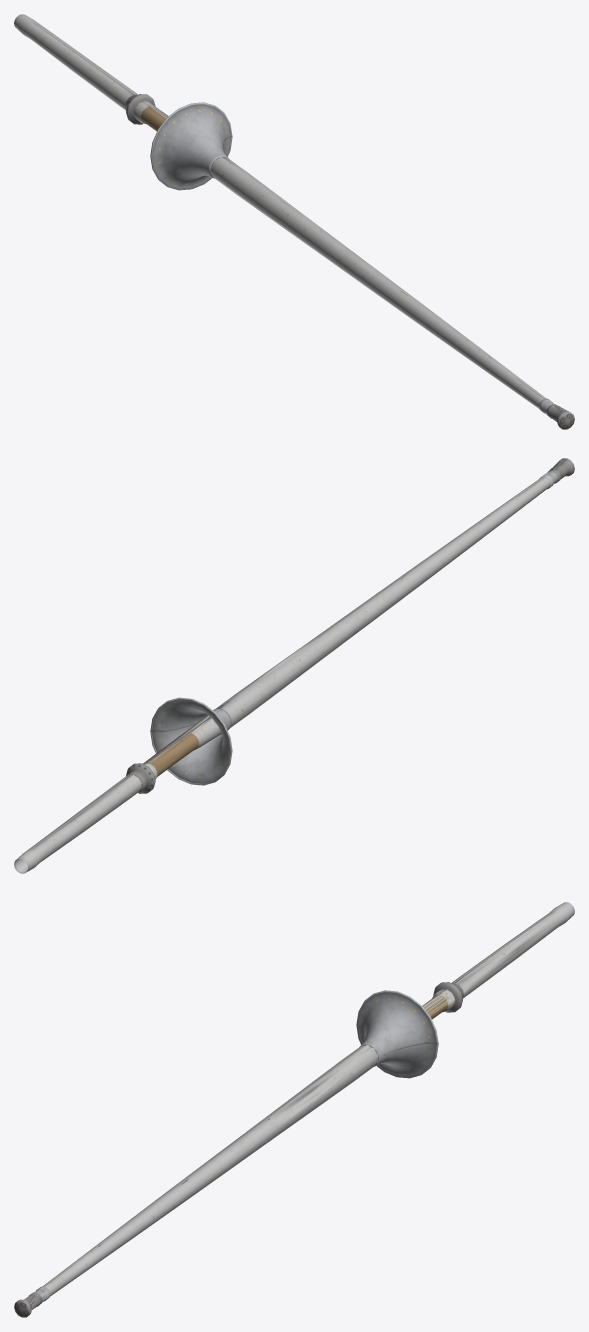
File: lance_light.glb
3 renders of one model, top to bottom at view 1: azimuth 30°, elevation 25°; view 2: azimuth 150°, elevation 25°; view 3: azimuth 330°, elevation 25°, orthographic.
Parts seen in each view (by area): view 1: lance_rear, lance_vamplate, lance_fore; view 2: lance_rear, lance_fore, lance_vamplate, lance_grapper; view 3: lance_rear, lance_vamplate, lance_fore.
Part boxes in pixels (box(x1,y1,x2,y2)): lance_rear: box(14, 14, 324, 248); lance_vamplate: box(150, 102, 232, 190); lance_fore: box(310, 230, 546, 408); lance_rear: box(14, 638, 328, 873); lance_fore: box(314, 477, 549, 656); lance_vamplate: box(150, 697, 232, 785); lance_grapper: box(126, 763, 155, 793); lance_rear: box(264, 902, 574, 1136); lance_vamplate: box(356, 990, 438, 1078); lance_fore: box(42, 1118, 278, 1296).
Size of the model in its own units: 0.2968 by 0.2968 by 3.42.
Materials: 1 (1 with a texture image).
